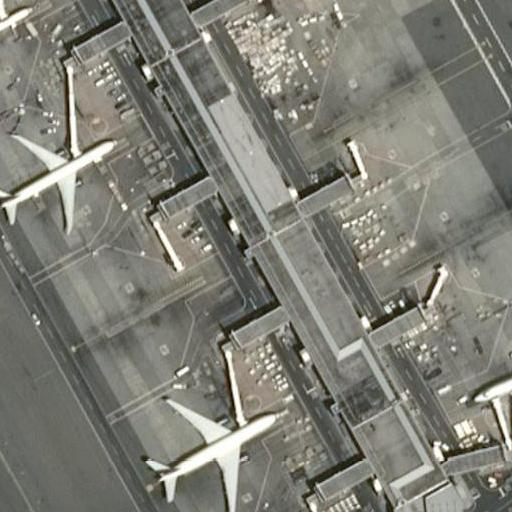Aircraft: (140, 385, 280, 512), (0, 123, 118, 235), (466, 285, 512, 430), (0, 0, 28, 81)
